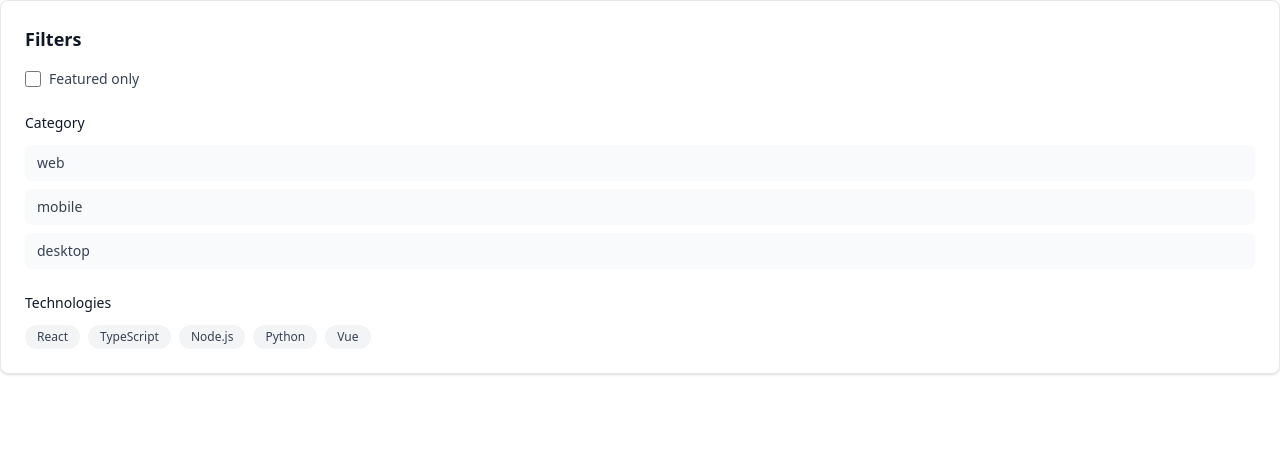
Scenario: ProjectFilters › Clear All Filters › should show clear all button when filters are active
# Enable featured filter
Click the checkbox named "Show only featured projects".
click(33, 79)  # box [25,71,41,87]
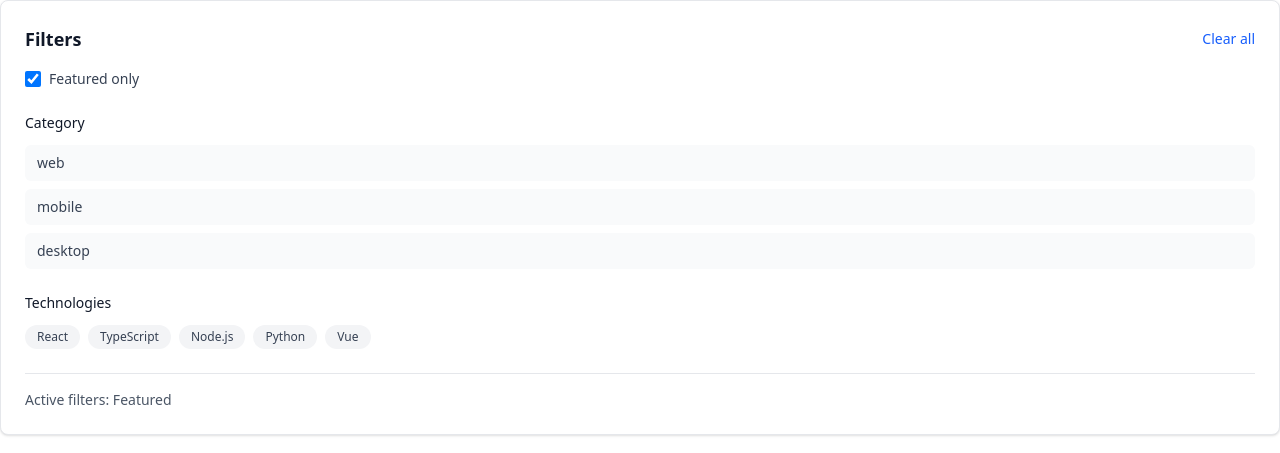
Result: the button with aria-label "Clear all filters" is shown at [1202,29,1255,49]
